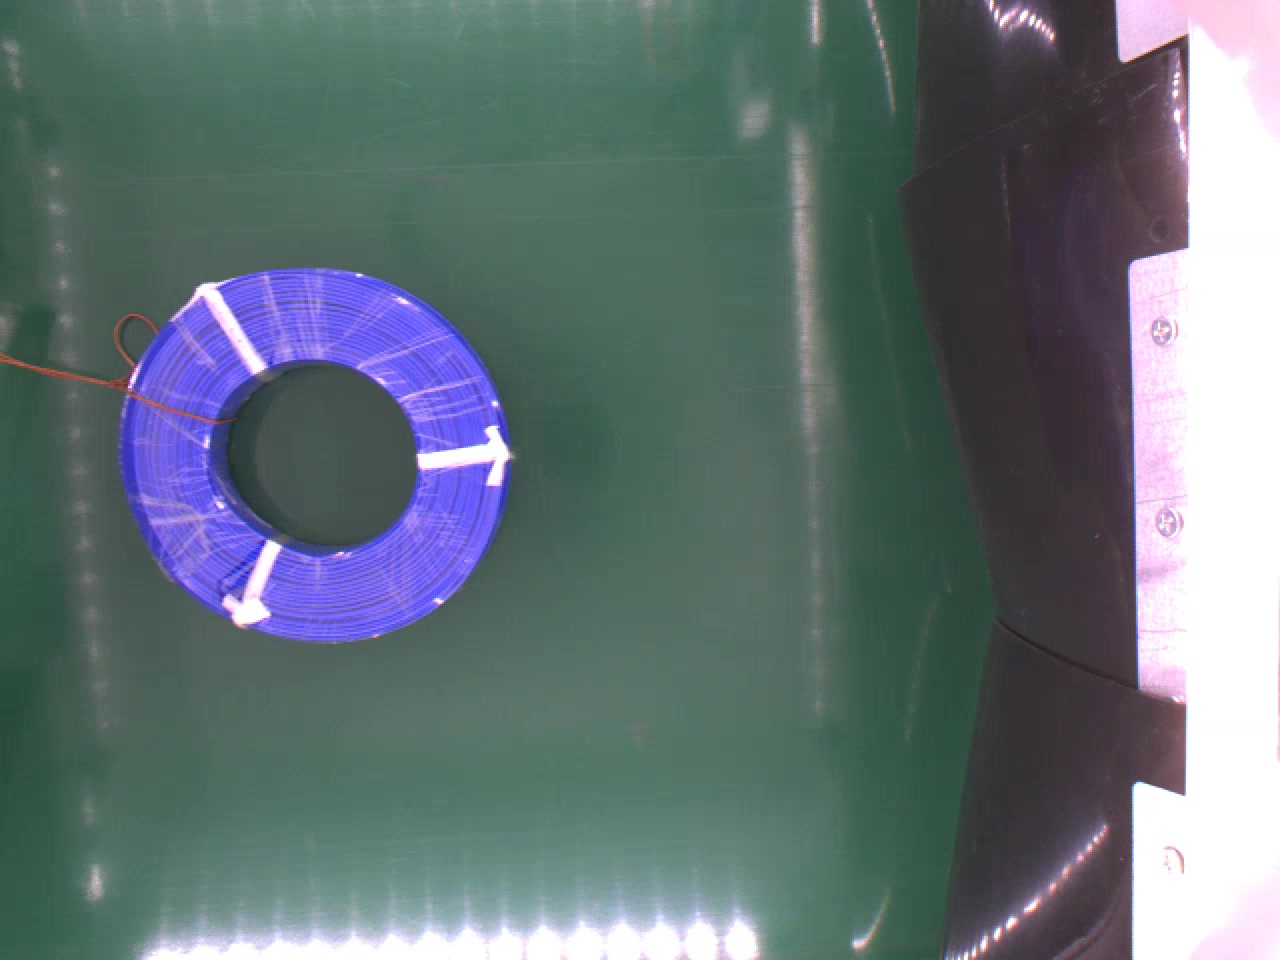blue: (116, 264, 511, 644)
